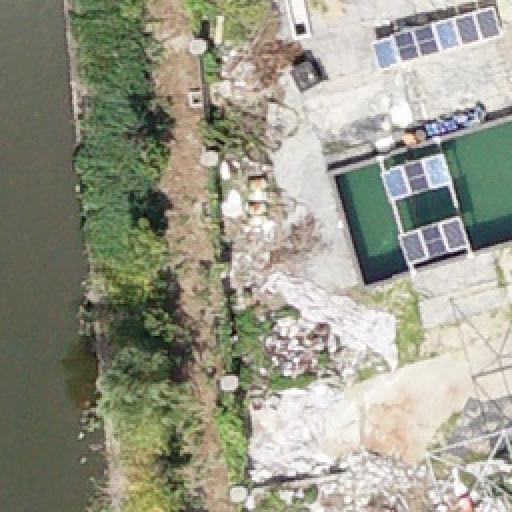solar-panel: (371, 7, 501, 73), (399, 215, 473, 265), (380, 155, 452, 205)
